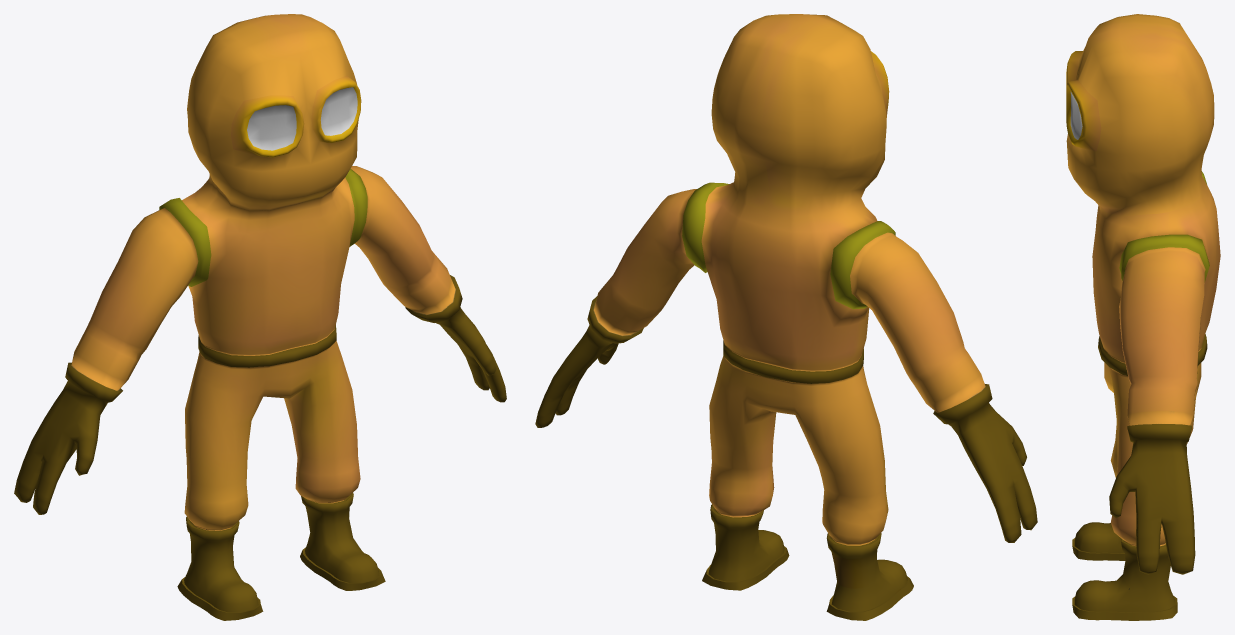
Rendered from Scientist_Orange_Character.FBX.
3 renders of one model, left to right at view 1: azimuth 30°, elevation 25°; view 2: azimuth 150°, elevation 25°; view 3: azimuth 270°, elevation 25°, orthographic. The views are drawn at different scales.
Visible parts, largest first — view 1: Scientist; view 2: Scientist; view 3: Scientist.
Boxes of the visible parts, x1,y1,x2,y2 form: Scientist: [14, 14, 506, 620]; Scientist: [535, 14, 1037, 620]; Scientist: [1066, 14, 1220, 620].
Bounding box in the file's own units: 160 × 181 × 45.87.
1 material, 1 textured.
